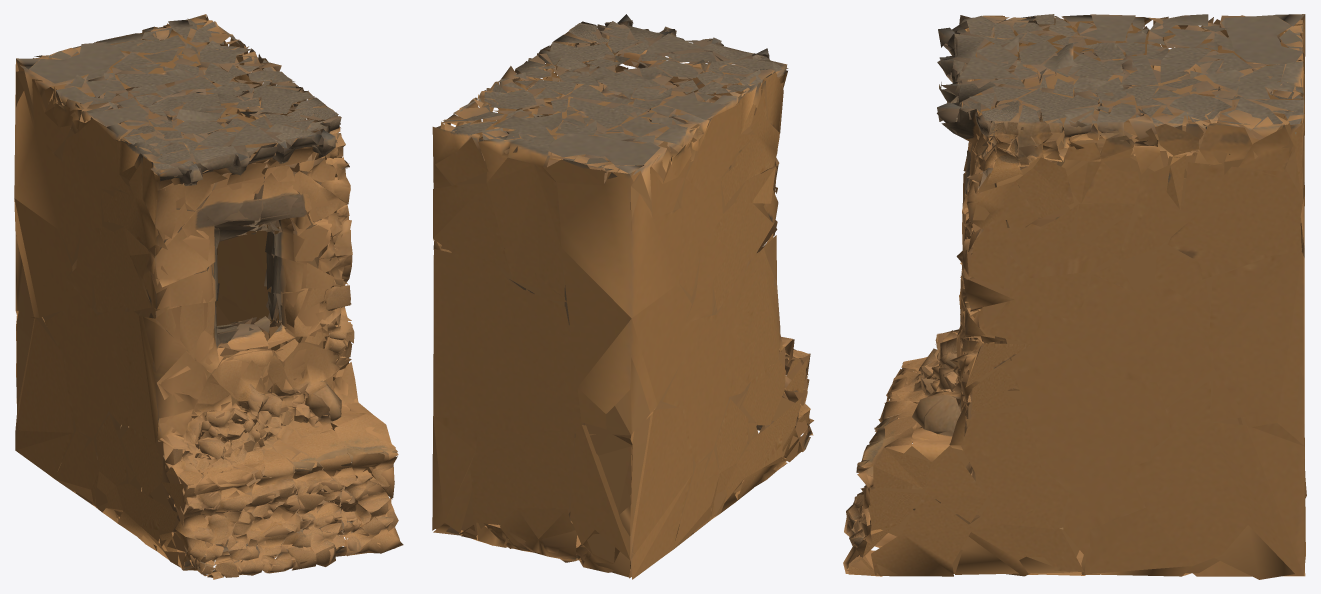
The model's file is kerpic_ev_kosesi.glb.
3 views of the same model, side by side, from view 1: azimuth 30°, elevation 25°; view 2: azimuth 150°, elevation 25°; view 3: azimuth 270°, elevation 25° (orthographic). The views are drawn at different scales.
Parts seen in each view (by area): view 1: kerpic_ev_kosesi; view 2: kerpic_ev_kosesi; view 3: kerpic_ev_kosesi.
Part boxes in pixels (bbox=[...]): kerpic_ev_kosesi: bbox=[14, 14, 403, 579]; kerpic_ev_kosesi: bbox=[432, 14, 813, 579]; kerpic_ev_kosesi: bbox=[843, 14, 1306, 579].
Bounding box in the file's own units: 1.58 × 3 × 2.72.
Materials: 1 (1 with a texture image).
